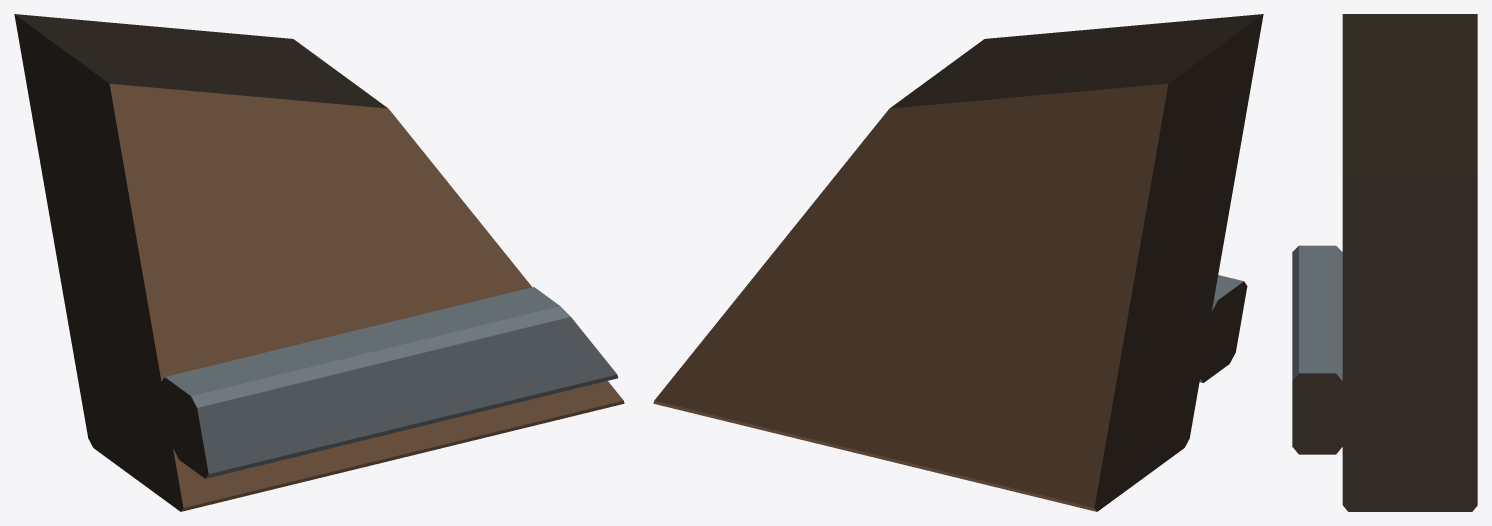
Rendered from SM_DoorShard_01_33.fbx.
3 renders of one model, left to right at view 1: azimuth 30°, elevation 25°; view 2: azimuth 150°, elevation 25°; view 3: azimuth 270°, elevation 25°, orthographic. The views are drawn at different scales.
Parts seen in each view (by area): view 1: SM_DoorShard_01_33; view 2: SM_DoorShard_01_33; view 3: SM_DoorShard_01_33.
Part boxes in pixels (x1,y1,x2,y2): SM_DoorShard_01_33: (14, 14, 624, 511); SM_DoorShard_01_33: (653, 14, 1263, 511); SM_DoorShard_01_33: (1292, 14, 1477, 511).
Bounding box in the file's own units: 50.35 × 22 × 41.67.
